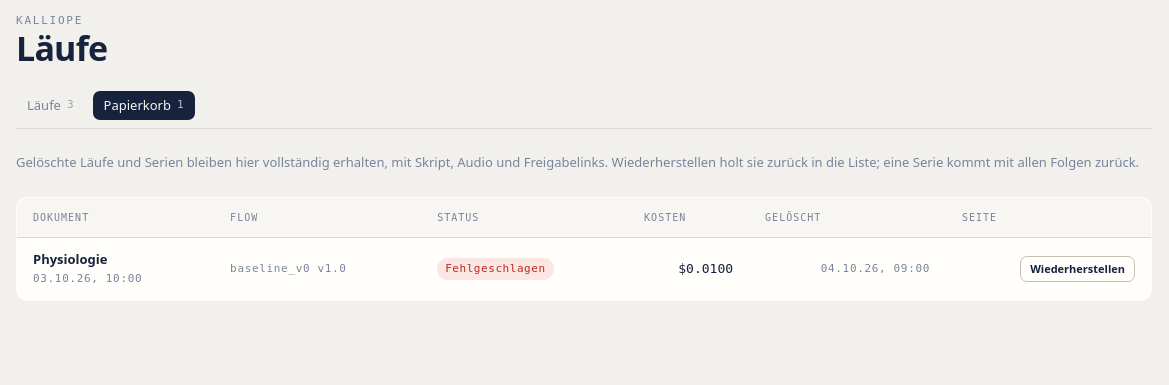
Test: runs trash › keeps a loaded trash list when a later load fails
The width and height of the screenshot is (1169, 385).
Click the button "Wiederherstellen": (1078, 269) [1020,256,1135,282]
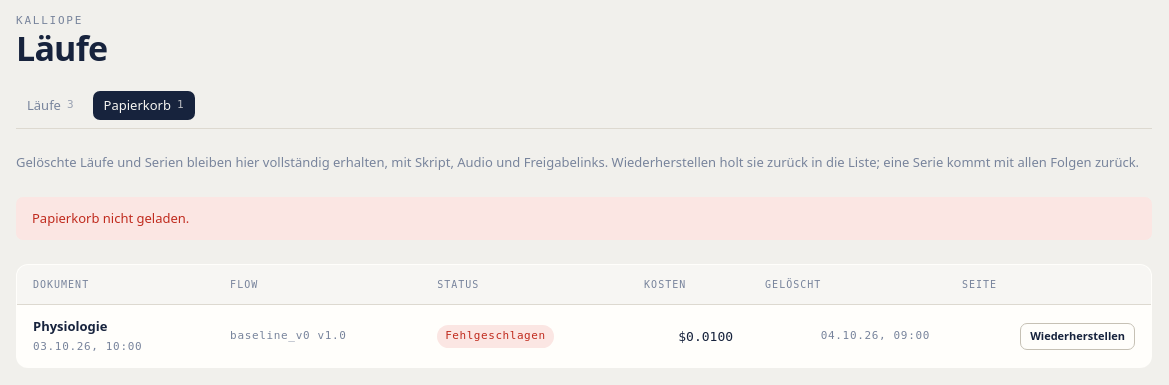
Expected: the message "Papierkorb nicht geladen." is shown, [16,197,1152,240]
